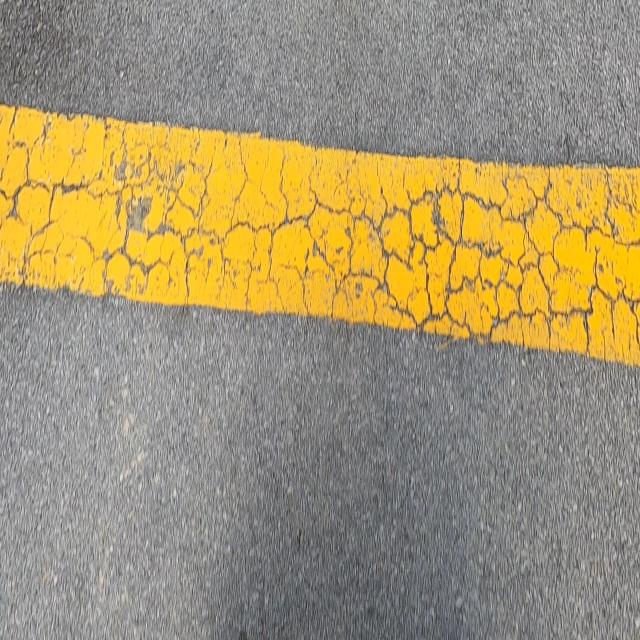Retak-Buaya: (0, 101, 640, 372)
